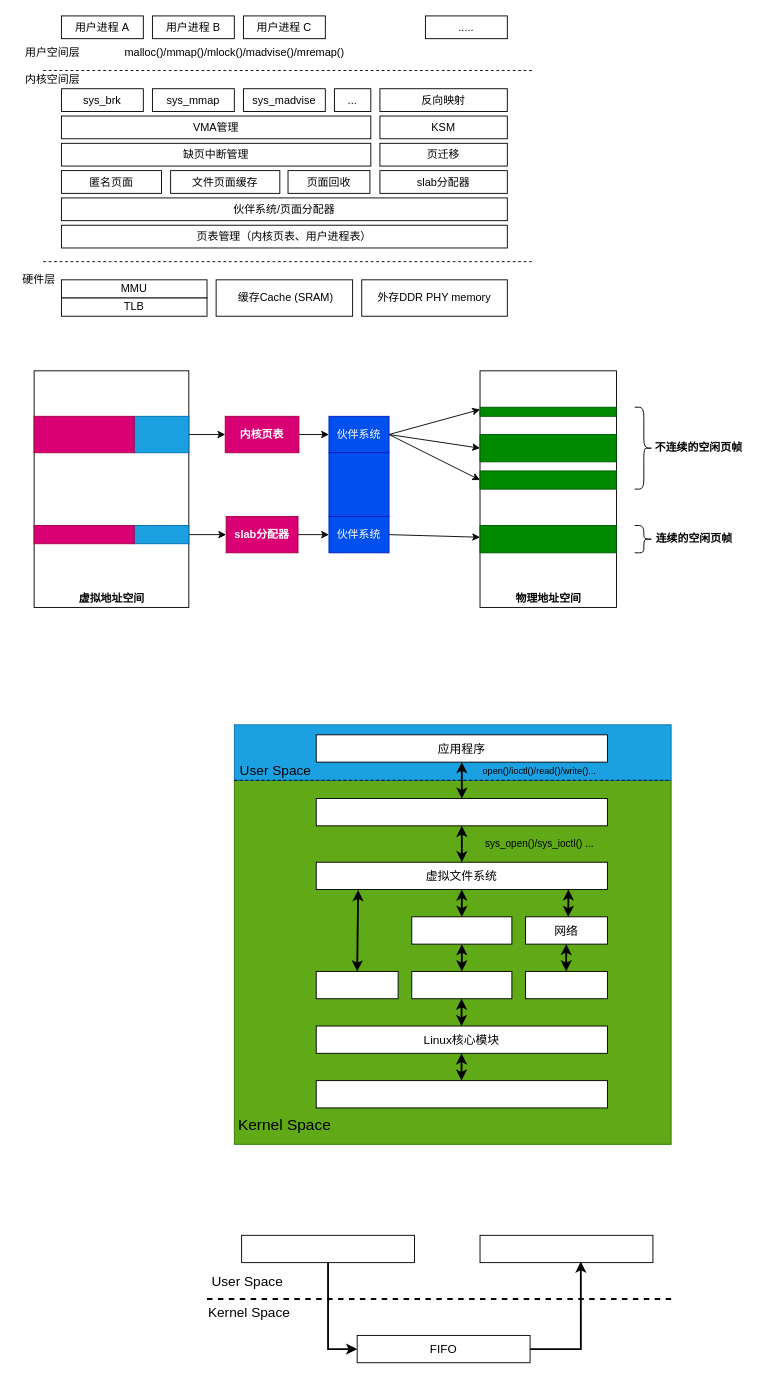
The diagram is 763 pixels wide and 1379 high, and some of its shapes have lost their labels. The shapes that lost their labels are listed below. From the top down, each one's centre as x and y in pixels, then its label:
pixel 83 434: 动态内存映射区
pixel 161 434: vmalloc
pixel 83 534: 直接映射区
pixel 161 534: kmalloc
pixel 461 812: 系统调用层
pixel 461 930: 块设备层
pixel 356 985: 字符设备驱动
pixel 461 985: 块设备驱动程序
pixel 566 985: 网络设备驱动
pixel 461 1094: 硬件
pixel 328 1248: Writing FIFO Buffer
pixel 566 1248: Reading FIFO Buffer
